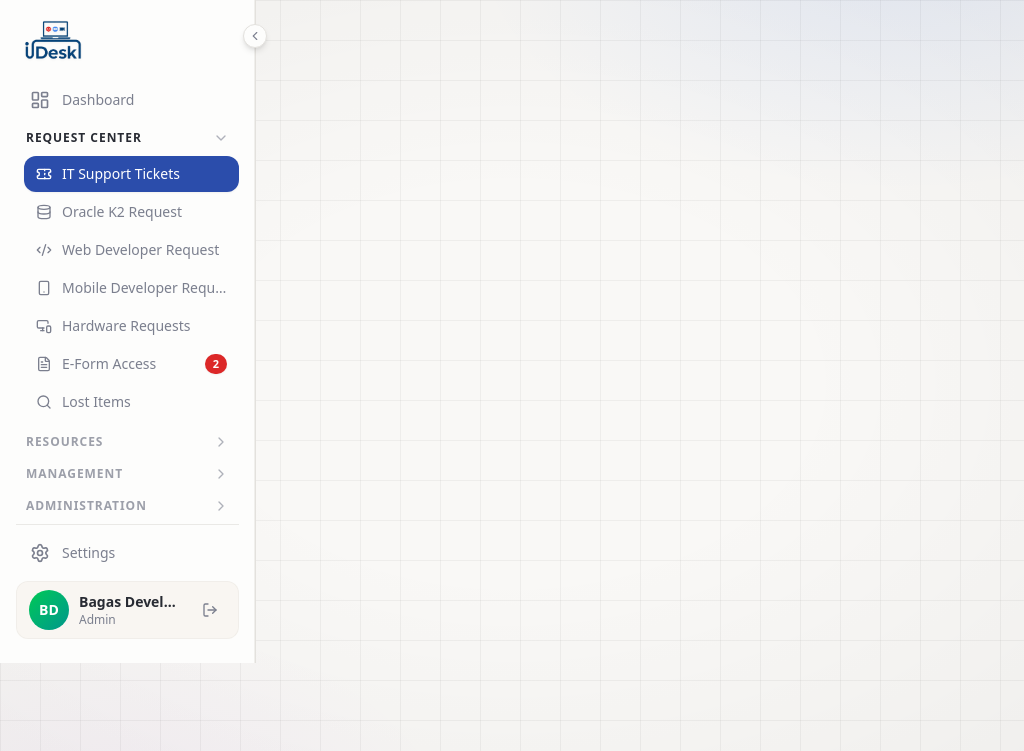
Test: BentoSidebar › handles smart multi-group accordion: keeps active group open while toggling secondary groups
Expected: the text "E-Form Access" is shown, 62,354 -> 156,374
Click the button "Resources" at (128, 442), box 16,428 -> 239,456
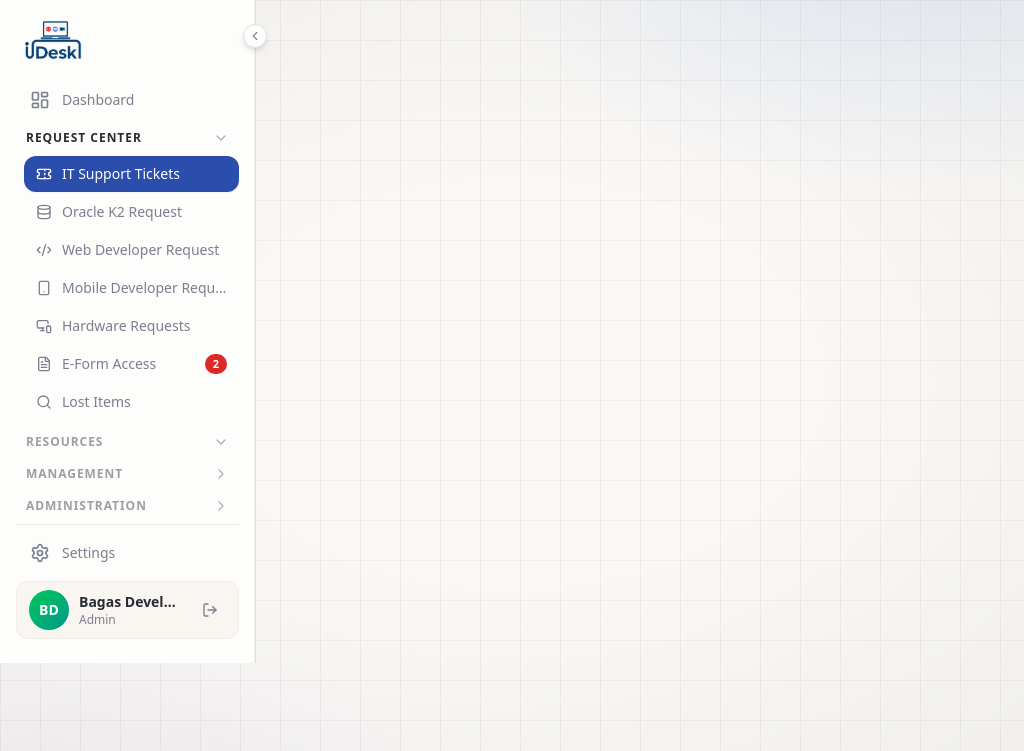
Expected: the text "E-Form Access" is shown, 62,354 -> 156,374
Click the button "Management" at (128, 474), box 16,460 -> 239,488
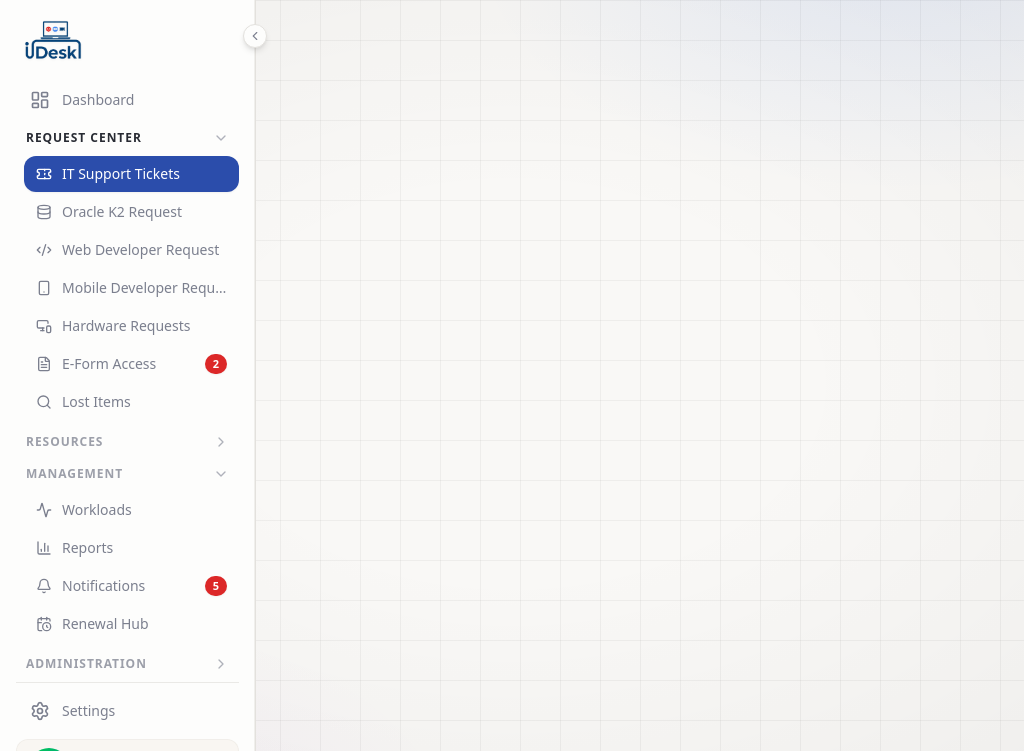
Expected: the text "E-Form Access" is shown, 62,354 -> 156,374
Now the text "Reports" is shown, box 62,538 -> 113,558
